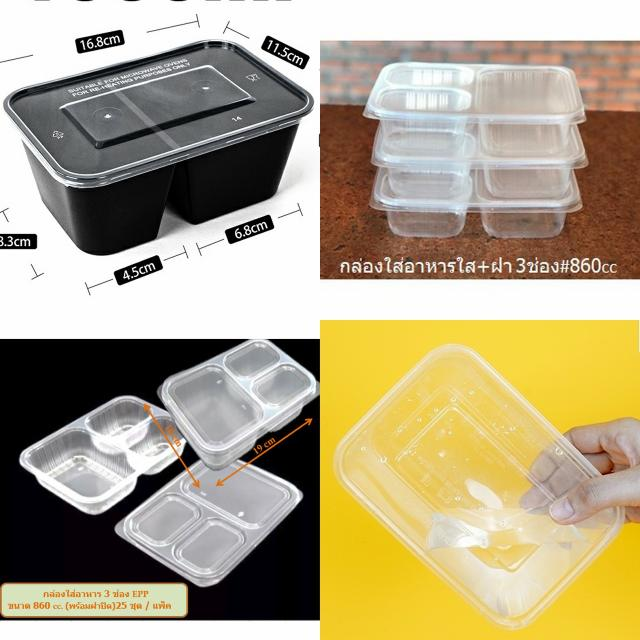Single-Use-Plastic: (334, 344, 624, 629), (5, 41, 314, 254), (364, 62, 588, 238), (115, 460, 302, 588), (158, 340, 319, 469), (20, 396, 185, 515)
